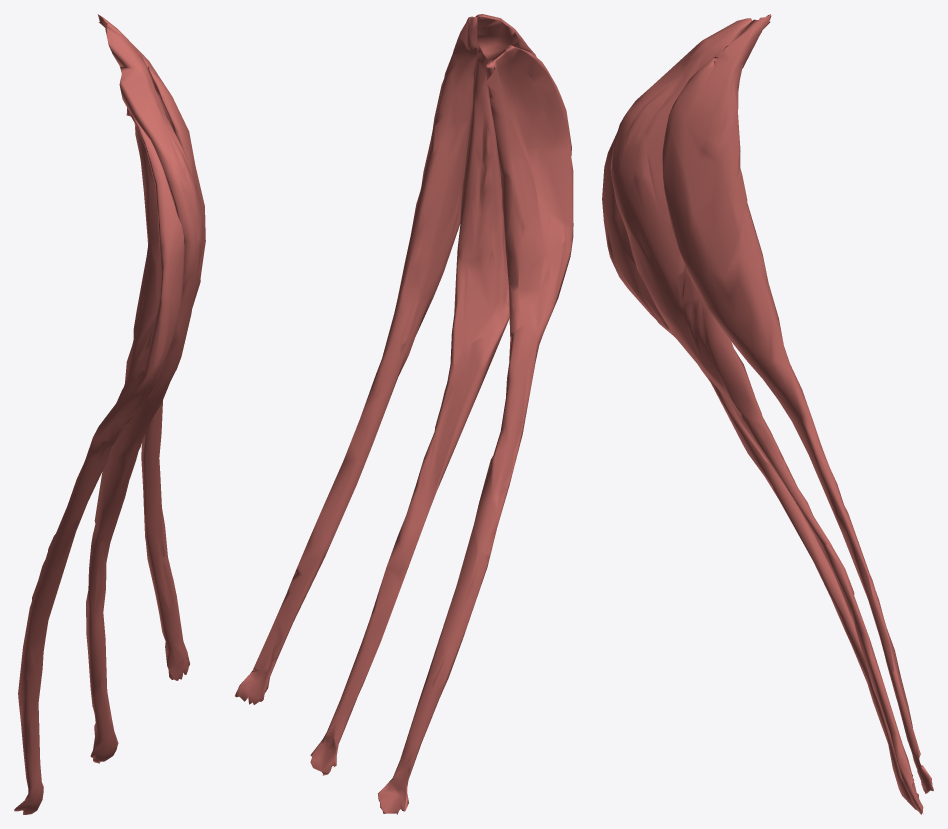
3 views of the same model, side by side, from view 1: azimuth 30°, elevation 25°; view 2: azimuth 150°, elevation 25°; view 3: azimuth 270°, elevation 25° (orthographic). The views are drawn at different scales.
Parts seen in each view (by area): view 1: 左侧趾短伸肌; view 2: 左侧趾短伸肌; view 3: 左侧趾短伸肌.
Part boxes in pixels (<box>): 左侧趾短伸肌: <box>14,14,205,814</box>; 左侧趾短伸肌: <box>235,14,573,814</box>; 左侧趾短伸肌: <box>602,14,933,814</box>.
Bounding box in the file's own units: 0.0631 × 0.227 × 0.0865.
